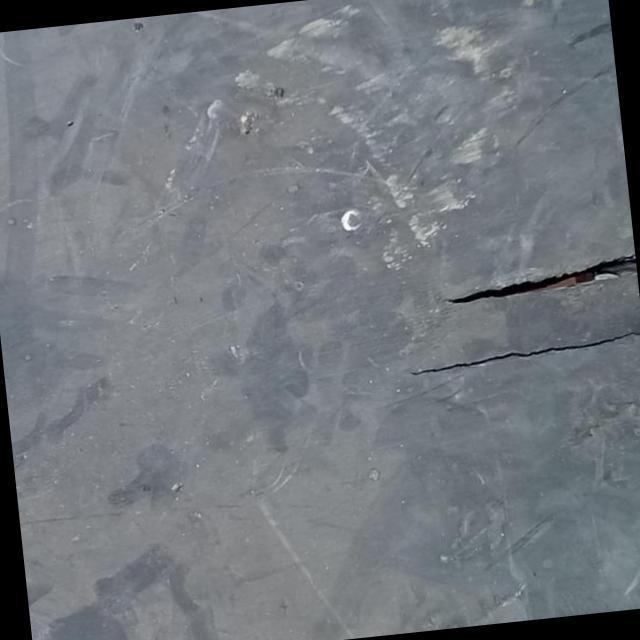Tear: (408, 325, 639, 380), (444, 253, 640, 309)
